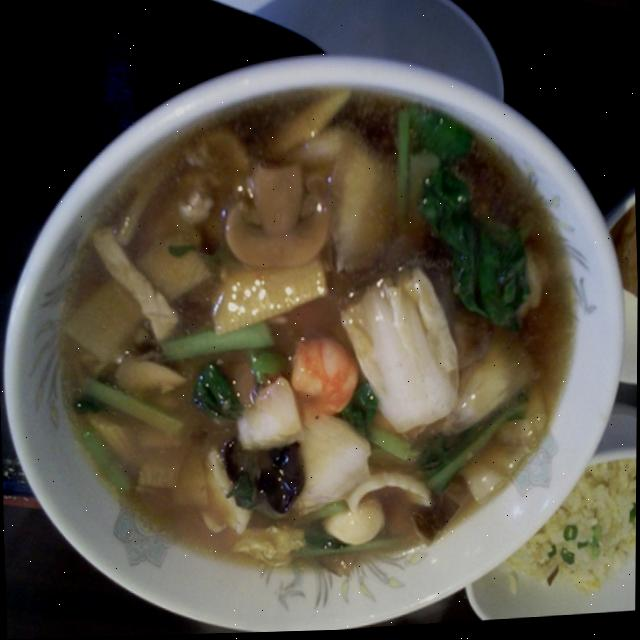面条主食: (19, 55, 599, 621)
